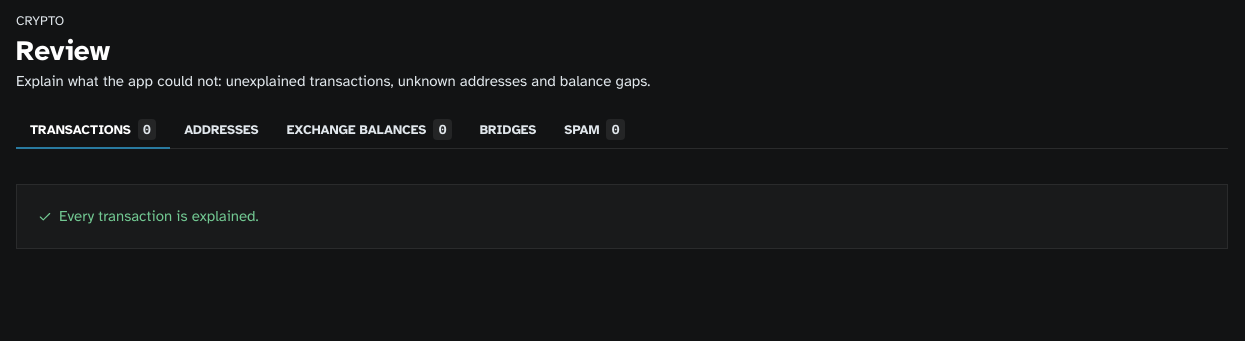
unknown counterparty triage › shows a retry state when the queue fetch fails rather than claiming all clear
This screenshot has width=1245, height=341.
Step 1. Click the tab "Addresses" → (221, 131), box [170,114,273,149]
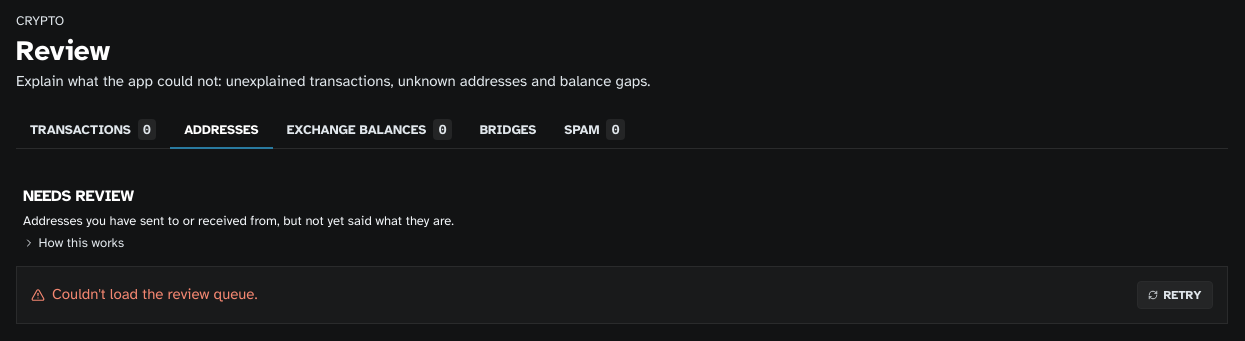
Check: the heading "Needs Review" is shown, box [23,186,134,206]
Check: the text "Couldn't load the review queue." is shown, box [31,284,258,306]
Check: the button "Retry" is shown, box [1137,281,1213,309]
